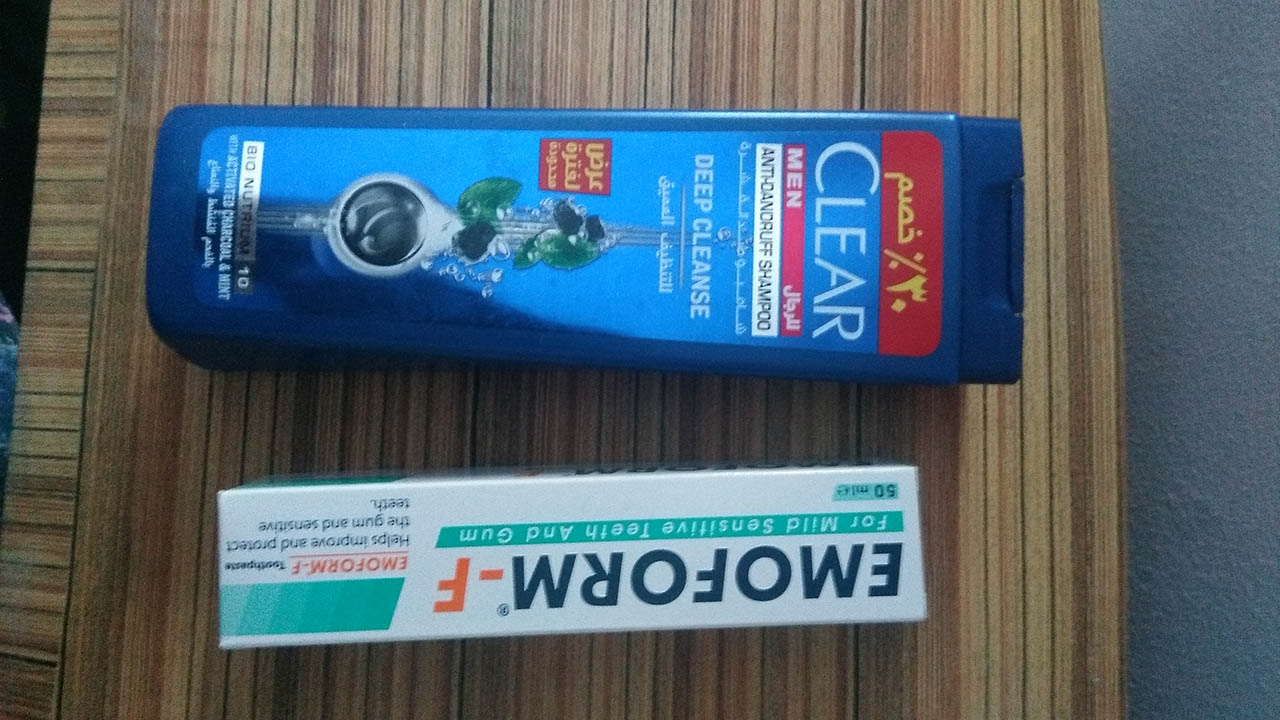Shampoo-Clear 4.7$: (148, 94, 1040, 381)
Toothpaste-F 1.5$: (206, 469, 924, 629)
